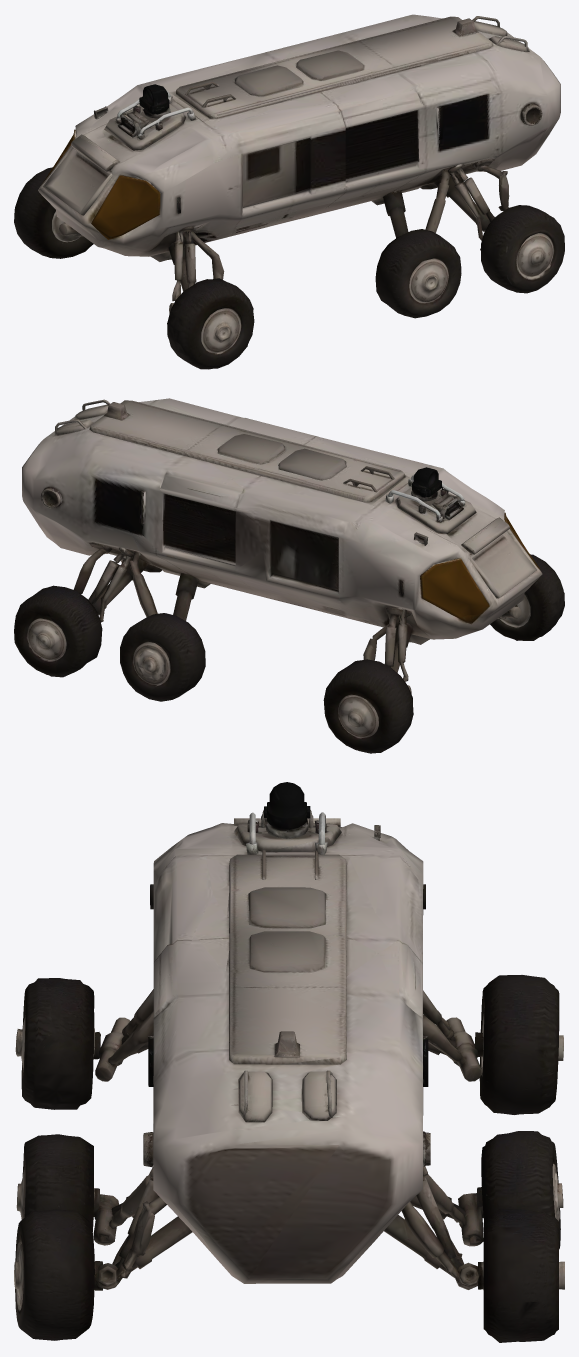
File: van.glb
The picture shows the model from 3 angles, top to bottom: view 1: azimuth 30°, elevation 25°; view 2: azimuth 150°, elevation 25°; view 3: azimuth 270°, elevation 25°; orthographic projection. The views are drawn at different scales.
Parts seen in each view (by area): view 1: tripo_part_2, tripo_part_51, tripo_part_11, tripo_part_8, tripo_part_9, tripo_part_3, tripo_part_10, tripo_part_76, tripo_part_55, tripo_part_58, tripo_part_54, tripo_part_68 (+10 smaller); view 2: tripo_part_2, tripo_part_51, tripo_part_3, tripo_part_0, tripo_part_7, tripo_part_11, tripo_part_49, tripo_part_76, tripo_part_55, tripo_part_58, tripo_part_54, tripo_part_68 (+9 smaller); view 3: tripo_part_2, tripo_part_51, tripo_part_3, tripo_part_0, tripo_part_9, tripo_part_11, tripo_part_7, tripo_part_8, tripo_part_55, tripo_part_58, tripo_part_1, tripo_part_54 (+12 smaller).
Part boxes in pixels (x1,y1,x2,y2): tripo_part_2: (38,14,560,256); tripo_part_51: (176,16,493,118); tripo_part_11: (167,278,254,369); tripo_part_8: (375,229,461,318); tripo_part_9: (481,205,564,293); tripo_part_3: (14,167,93,258); tripo_part_10: (91,175,160,239); tripo_part_76: (43,148,112,215); tripo_part_55: (235,65,303,97); tripo_part_58: (296,50,364,80); tripo_part_54: (104,104,185,150); tripo_part_68: (71,134,119,171); tripo_part_2: (22,398,542,639); tripo_part_51: (89,400,405,502); tripo_part_3: (323,659,413,753); tripo_part_0: (14,585,102,677); tripo_part_7: (120,613,205,701); tripo_part_11: (490,554,564,640); tripo_part_49: (420,558,489,624); tripo_part_76: (468,531,536,598); tripo_part_55: (278,448,346,480); tripo_part_58: (217,434,285,464); tripo_part_54: (395,487,476,533); tripo_part_68: (461,517,509,554); tripo_part_2: (153,823,423,1283); tripo_part_51: (229,854,346,1064); tripo_part_3: (475,975,563,1114); tripo_part_0: (478,1208,564,1342); tripo_part_9: (14,1209,103,1340); tripo_part_11: (15,978,100,1109); tripo_part_7: (458,1131,563,1249); tripo_part_8: (16,1134,118,1245); tripo_part_55: (248,887,326,928); tripo_part_58: (249,931,325,972); tripo_part_1: (266,782,308,838); tripo_part_54: (233,823,341,851).
Size of the model in its own units: 1 by 0.4511 by 0.6728.
84 materials, 84 textured.
